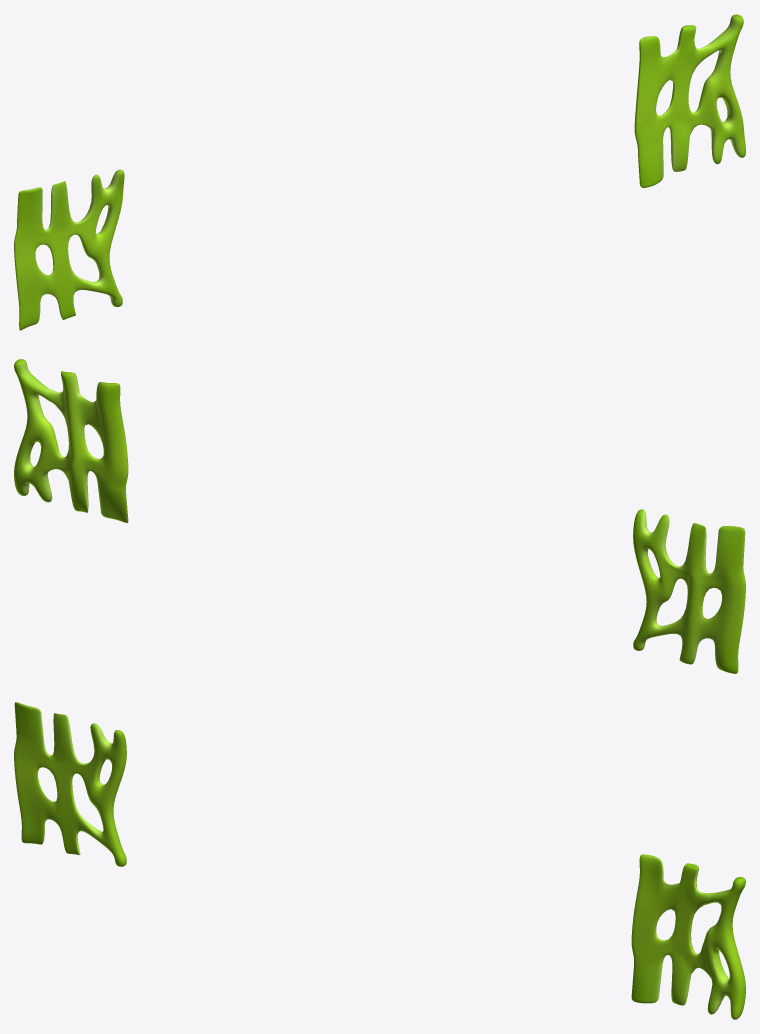
File: ChuChu Goo.fbx
3 views of the same model, one above another, from view 1: azimuth 30°, elevation 25°; view 2: azimuth 150°, elevation 25°; view 3: azimuth 330°, elevation 25° (orthographic).
Parts seen in each view (by area): view 1: Goo.001, Goo.002; view 2: Goo.001, Goo.002; view 3: Goo.001, Goo.002.
Part boxes in pixels (x1,y1,x2,y2): Goo.001: [634, 14, 745, 187]; Goo.002: [14, 169, 124, 330]; Goo.001: [14, 359, 128, 522]; Goo.002: [633, 509, 745, 673]; Goo.001: [631, 854, 745, 1019]; Goo.002: [14, 702, 126, 866].
Bounding box in the file's own units: 2611 × 504 × 73.14.
1 material, 1 textured.
